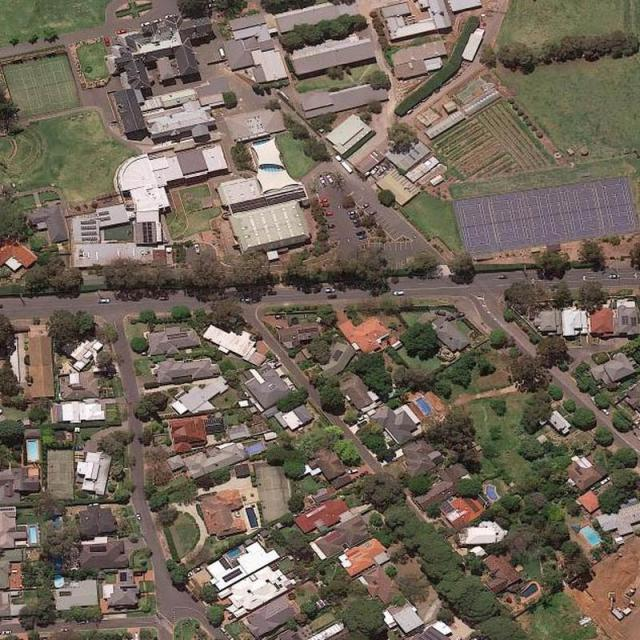vehicle: (601, 476, 612, 486), (325, 173, 334, 184), (218, 46, 226, 58), (96, 298, 111, 304), (194, 243, 201, 254), (318, 177, 326, 186), (162, 12, 176, 17), (325, 286, 336, 292), (194, 566, 203, 573), (116, 28, 126, 34), (139, 20, 149, 26), (152, 17, 162, 23), (608, 272, 618, 278), (60, 627, 70, 633), (238, 298, 252, 302), (601, 406, 608, 414), (221, 628, 228, 636), (348, 469, 359, 474), (136, 513, 142, 522), (2, 630, 14, 634), (346, 210, 357, 214), (360, 202, 367, 208), (394, 290, 402, 295), (349, 214, 359, 218), (78, 620, 88, 624), (352, 218, 361, 222), (373, 166, 379, 172)
